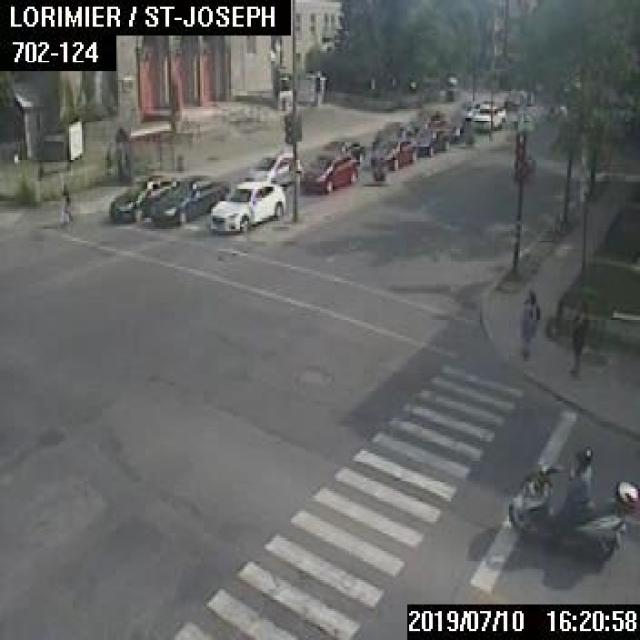pedestrian: (518, 286, 538, 358), (568, 302, 586, 373), (56, 184, 71, 223)
vehicle: (506, 442, 638, 569), (149, 173, 228, 224), (210, 180, 284, 232), (108, 173, 179, 223), (299, 152, 357, 192), (244, 150, 302, 186), (370, 135, 416, 169), (413, 127, 448, 157), (322, 138, 363, 161), (375, 120, 412, 145), (408, 108, 444, 131), (472, 103, 501, 131), (502, 91, 523, 107)
